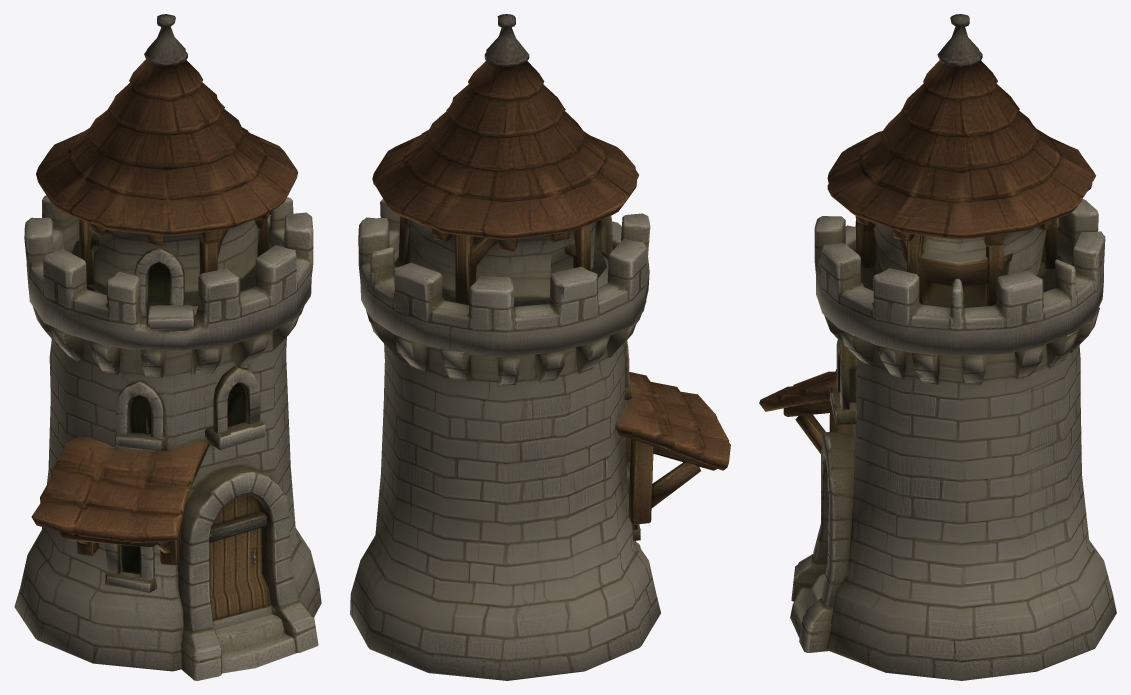
The model's file is 019e2cff-ef06-79ee-86b7-3b07c43757a9.glb.
3 views of the same model, side by side, from view 1: azimuth 30°, elevation 25°; view 2: azimuth 150°, elevation 25°; view 3: azimuth 270°, elevation 25° (orthographic).
Visible parts, largest first — view 1: tripo_node_63bc7c7f-bb80-43b9-b10f-f9fa3ec91303; view 2: tripo_node_63bc7c7f-bb80-43b9-b10f-f9fa3ec91303; view 3: tripo_node_63bc7c7f-bb80-43b9-b10f-f9fa3ec91303.
Part boxes in pixels (x1,y1,x2,y2): tripo_node_63bc7c7f-bb80-43b9-b10f-f9fa3ec91303: [14, 14, 321, 680]; tripo_node_63bc7c7f-bb80-43b9-b10f-f9fa3ec91303: [350, 14, 730, 680]; tripo_node_63bc7c7f-bb80-43b9-b10f-f9fa3ec91303: [759, 14, 1116, 680].
Size of the model in its own units: 0.5488 by 0.998 by 0.541.
Materials: 1 (1 with a texture image).
